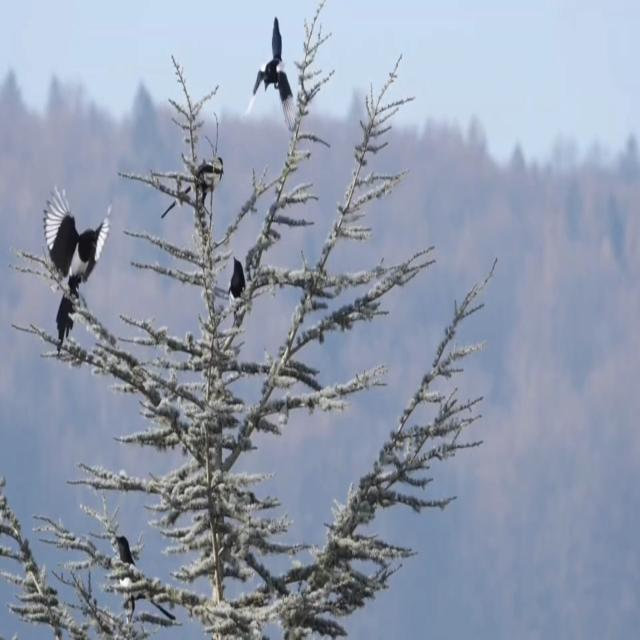bird: (31, 174, 117, 372), (91, 507, 180, 640), (238, 2, 318, 147), (157, 138, 227, 225), (212, 239, 265, 327)
